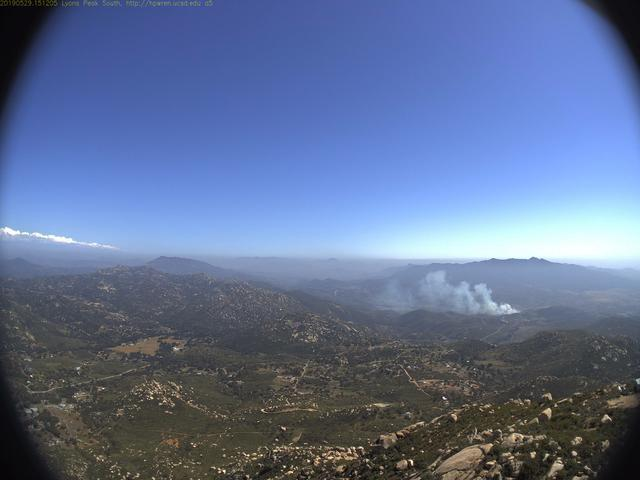smoke: (375, 266, 523, 319)
